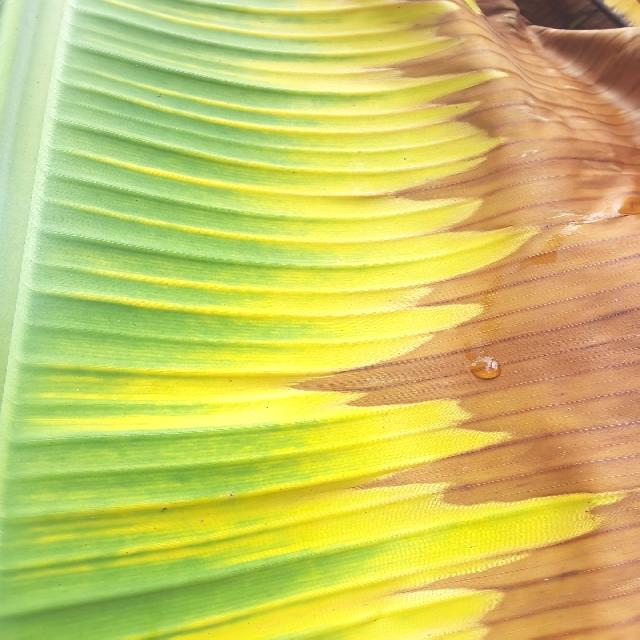Cordana: (2, 0, 573, 640)
